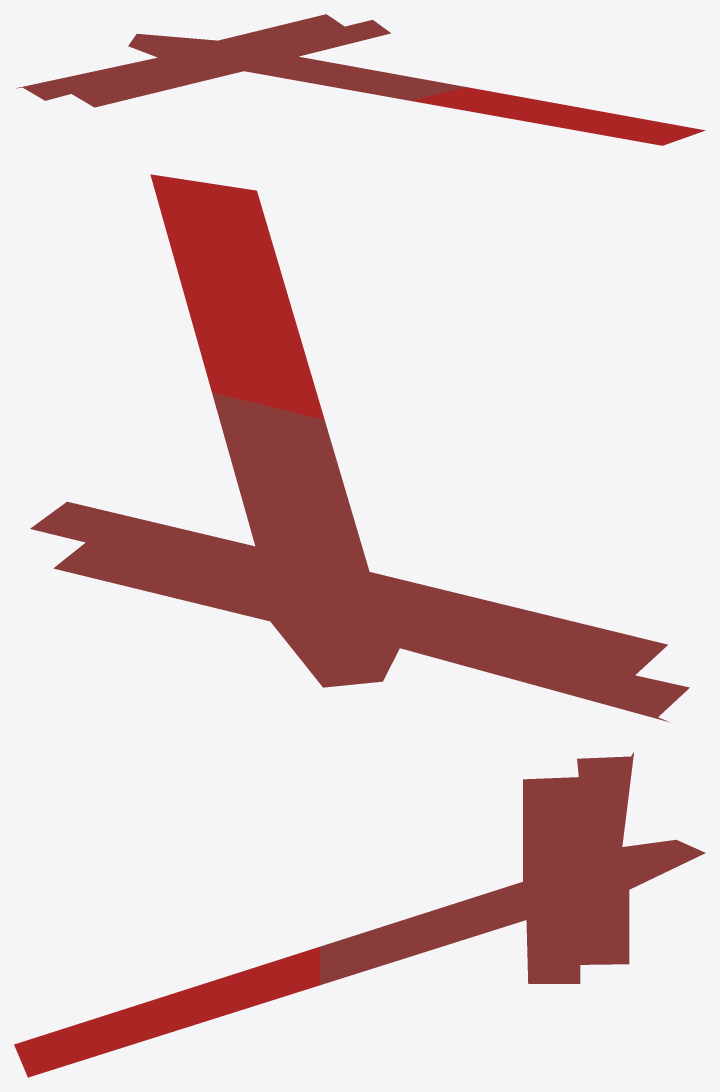
File: west_tree06_sd.FBX
3 renders of one model, top to bottom at view 1: azimuth 30°, elevation 25°; view 2: azimuth 150°, elevation 25°; view 3: azimuth 270°, elevation 25°, orthographic. The views are drawn at different scales.
Parts seen in each view (by area): view 1: west_tree06_sd; view 2: west_tree06_sd; view 3: west_tree06_sd.
Part boxes in pixels (box(x1,y1,x2,y2)): west_tree06_sd: box(16, 14, 705, 145); west_tree06_sd: box(30, 174, 689, 722); west_tree06_sd: box(14, 751, 705, 1077).
Bounding box in the file's own units: 4256 × 0.000333 × 3813.
